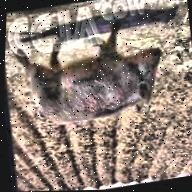boar: (2, 14, 186, 137)
